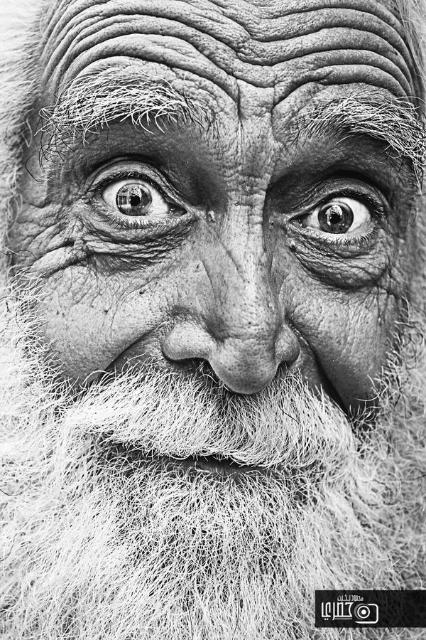bunny_line: (216, 239, 250, 283), (198, 255, 223, 293)
crows_feet: (40, 205, 92, 268)
forehead: (174, 8, 236, 86), (254, 19, 314, 87), (112, 1, 164, 62), (52, 4, 104, 64), (328, 6, 372, 74), (378, 21, 412, 89)
frown_line: (230, 171, 268, 221), (228, 96, 256, 140)
gummy_smile: (104, 322, 148, 376), (293, 320, 332, 380)
